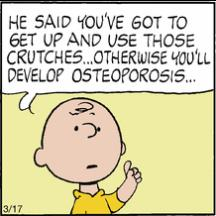charlie: (33, 95, 145, 215)
